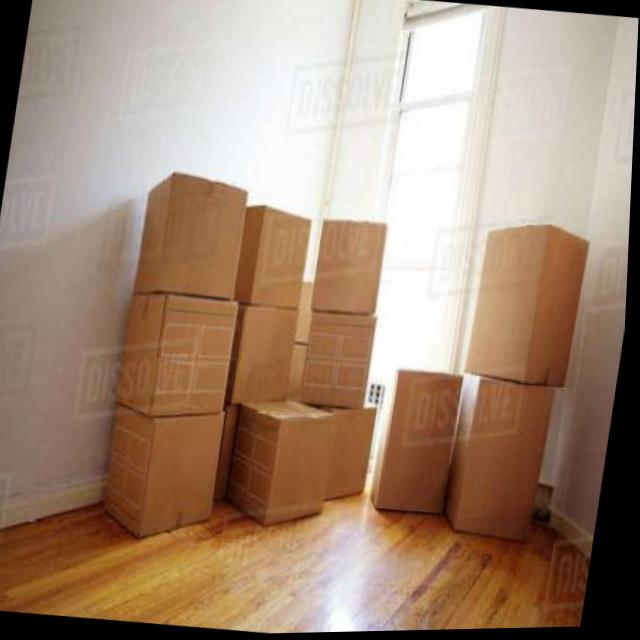box: (460, 203, 599, 411), (89, 380, 245, 552), (448, 363, 569, 583), (225, 388, 355, 547), (108, 279, 253, 419), (129, 161, 259, 310), (371, 357, 476, 535), (305, 193, 401, 337), (222, 288, 327, 414), (237, 176, 323, 319), (294, 301, 392, 410), (307, 389, 391, 511)
